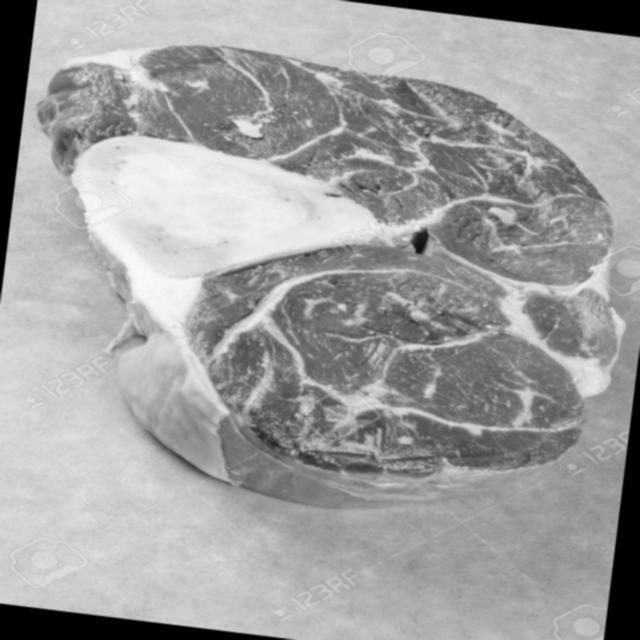chan gio: (0, 30, 640, 536)
